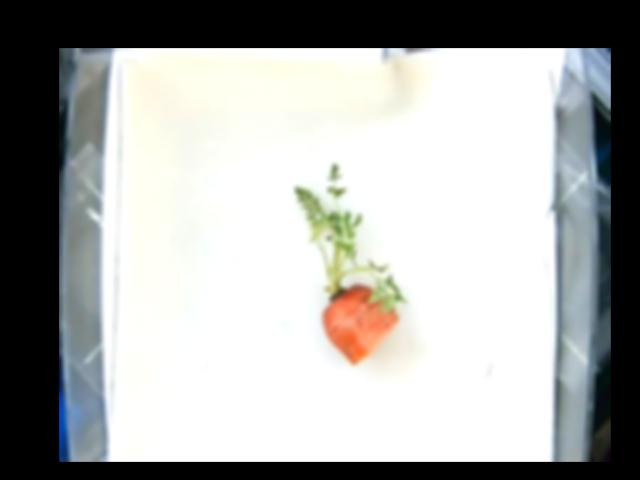Carrot: (293, 161, 409, 364)
